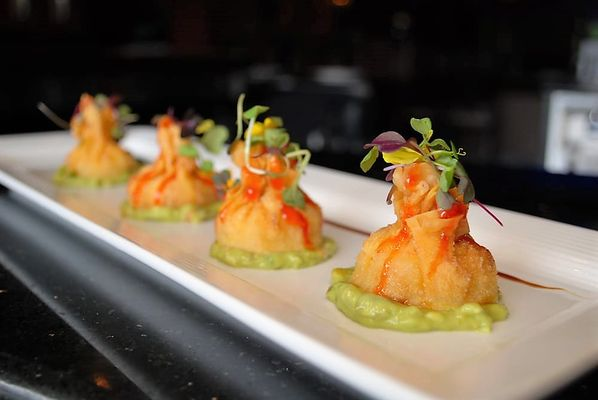sushi: (328, 117, 504, 321), (211, 102, 327, 270)
